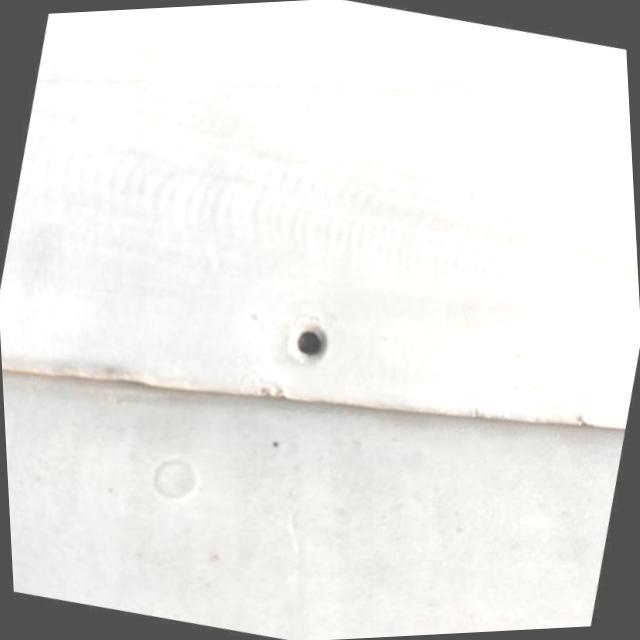Missing Fastener: (279, 309, 339, 374)
